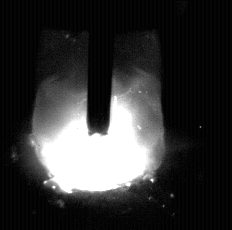arame: (88, 0, 111, 136)
poca: (31, 0, 166, 230)
